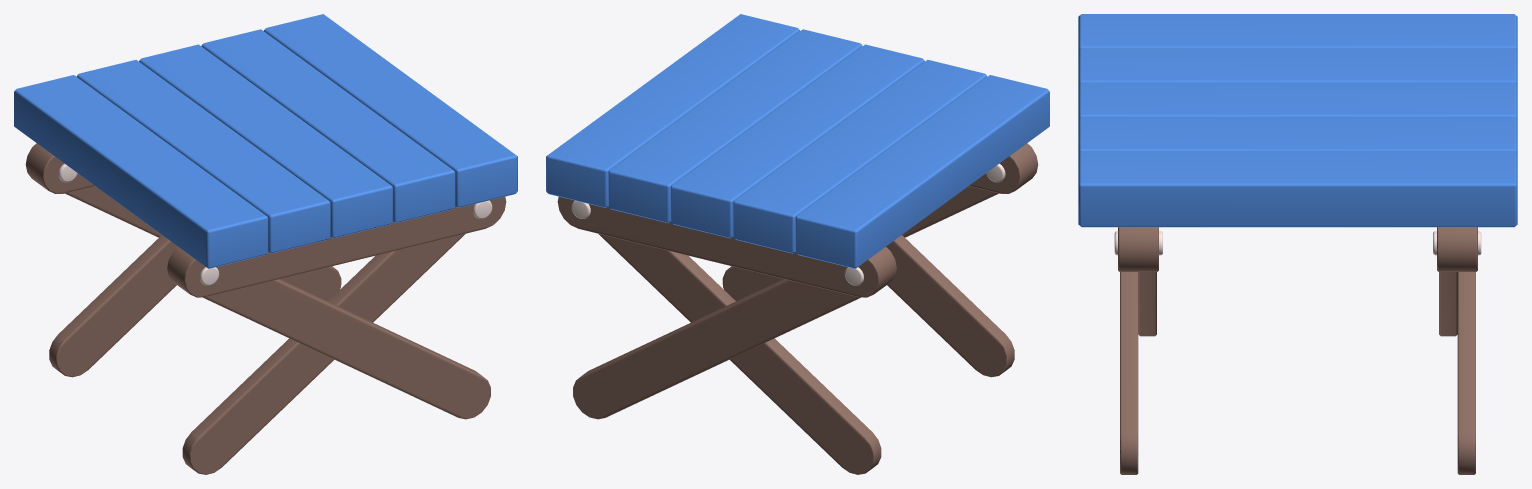
File: Isl_8_Table_1.fbx
3 views of the same model, side by side, from view 1: azimuth 30°, elevation 25°; view 2: azimuth 150°, elevation 25°; view 3: azimuth 270°, elevation 25° (orthographic). The views are drawn at different scales.
Parts seen in each view (by area): view 1: Isl_8_Table_1; view 2: Isl_8_Table_1; view 3: Isl_8_Table_1.
Part boxes in pixels (bbox=[...]): Isl_8_Table_1: bbox=[14, 14, 517, 474]; Isl_8_Table_1: bbox=[546, 14, 1049, 474]; Isl_8_Table_1: bbox=[1078, 14, 1517, 474].
Size of the model in its own units: 98.62 by 78.98 by 103.
